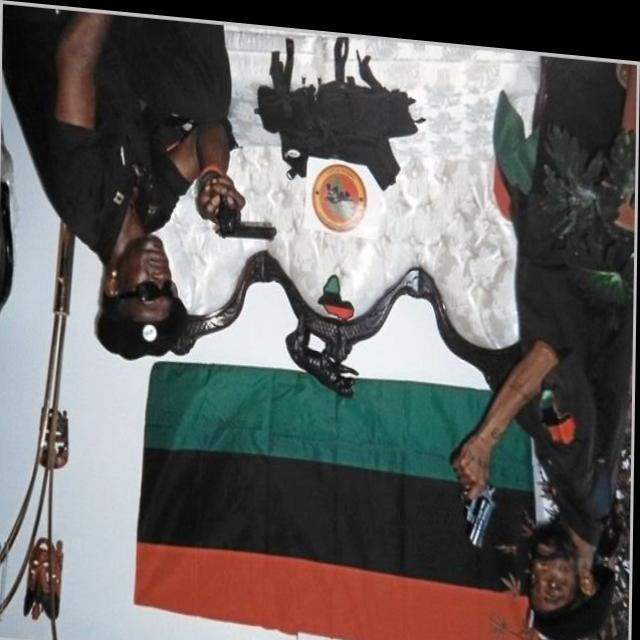handgun: (213, 186, 278, 239), (456, 470, 503, 540)
